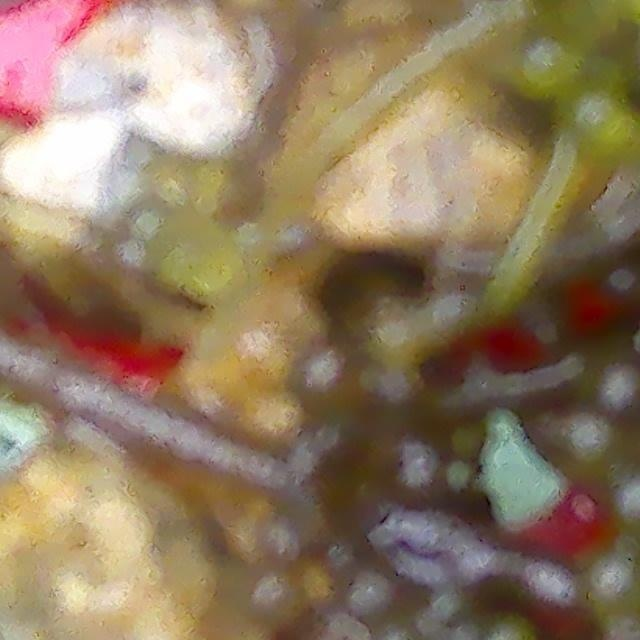SeaGrape: (560, 414, 621, 474), (571, 103, 632, 152), (343, 569, 397, 623), (517, 43, 571, 94), (598, 350, 640, 410), (248, 571, 293, 622)
